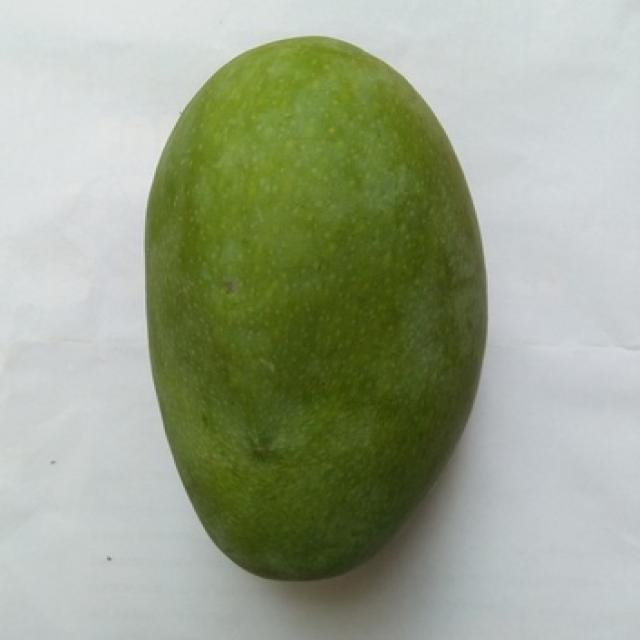Mango: (147, 37, 486, 579)
